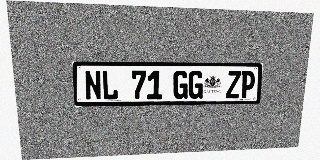1: (147, 70, 162, 100)
7: (131, 70, 146, 100)
G: (188, 71, 204, 99), (173, 71, 188, 99)
L: (101, 70, 118, 100)
N: (84, 70, 102, 100)
P: (240, 71, 256, 98)
Z: (226, 71, 241, 98)
